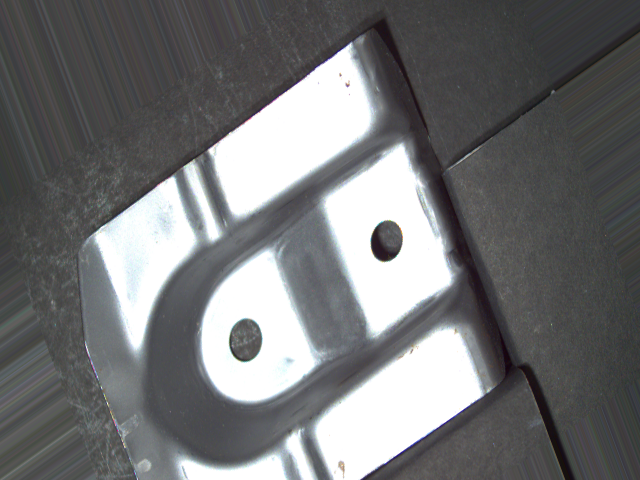defect: (225, 316, 265, 363)
